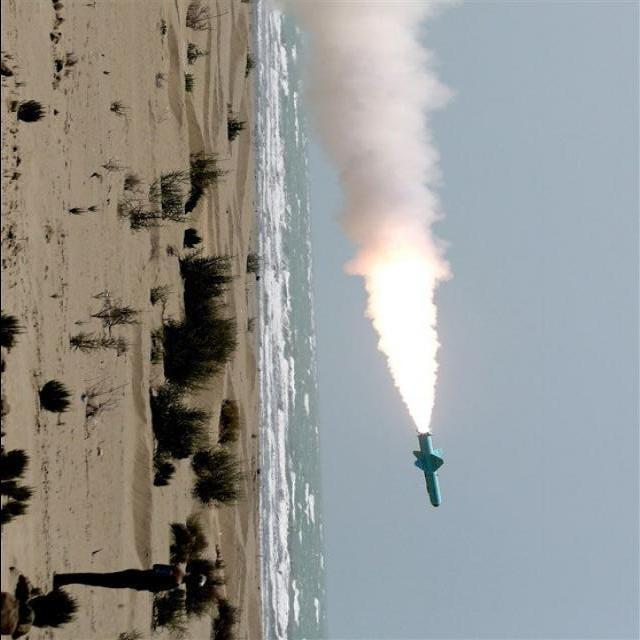missile: (413, 430, 448, 519)
